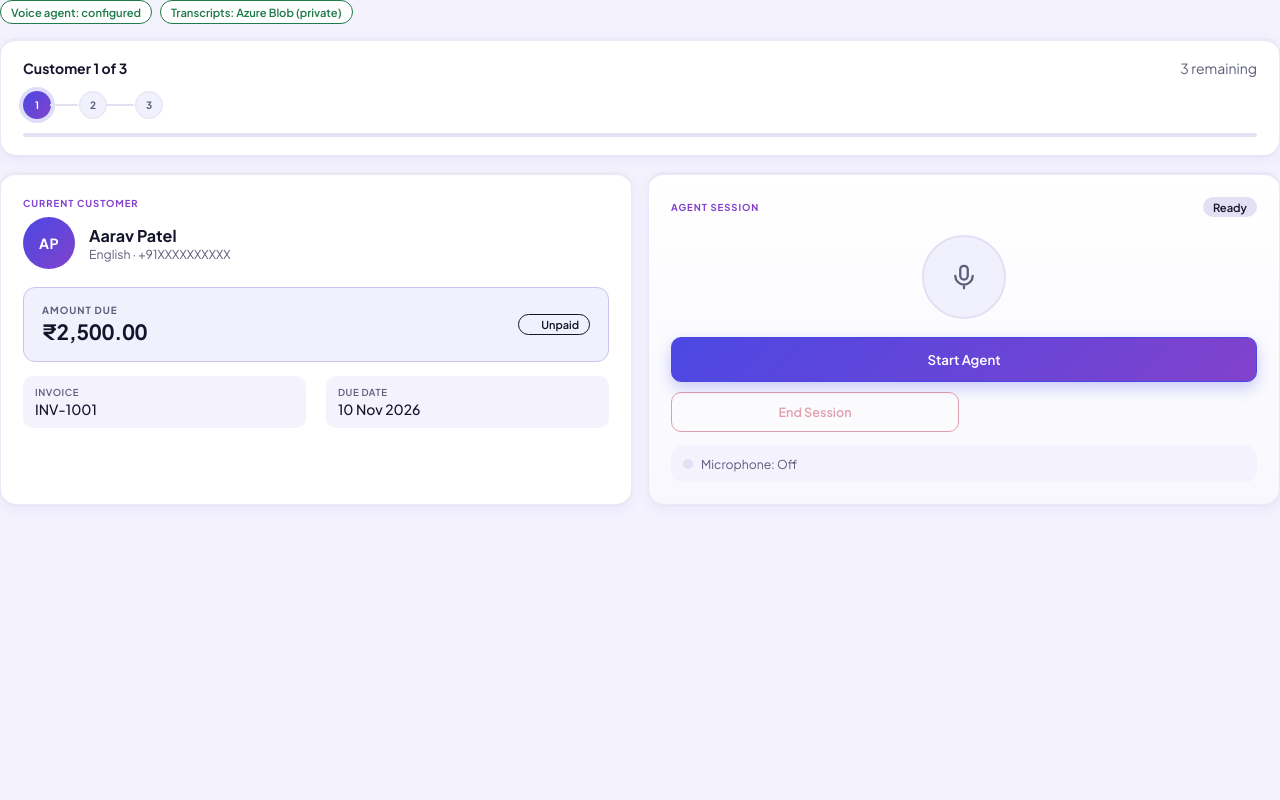
Test: Dashboard › handles a denied microphone and offers a typed conversation instead
Step 1. Click the button "Start Agent" → x=964, y=360, box [671,337,1257,382]
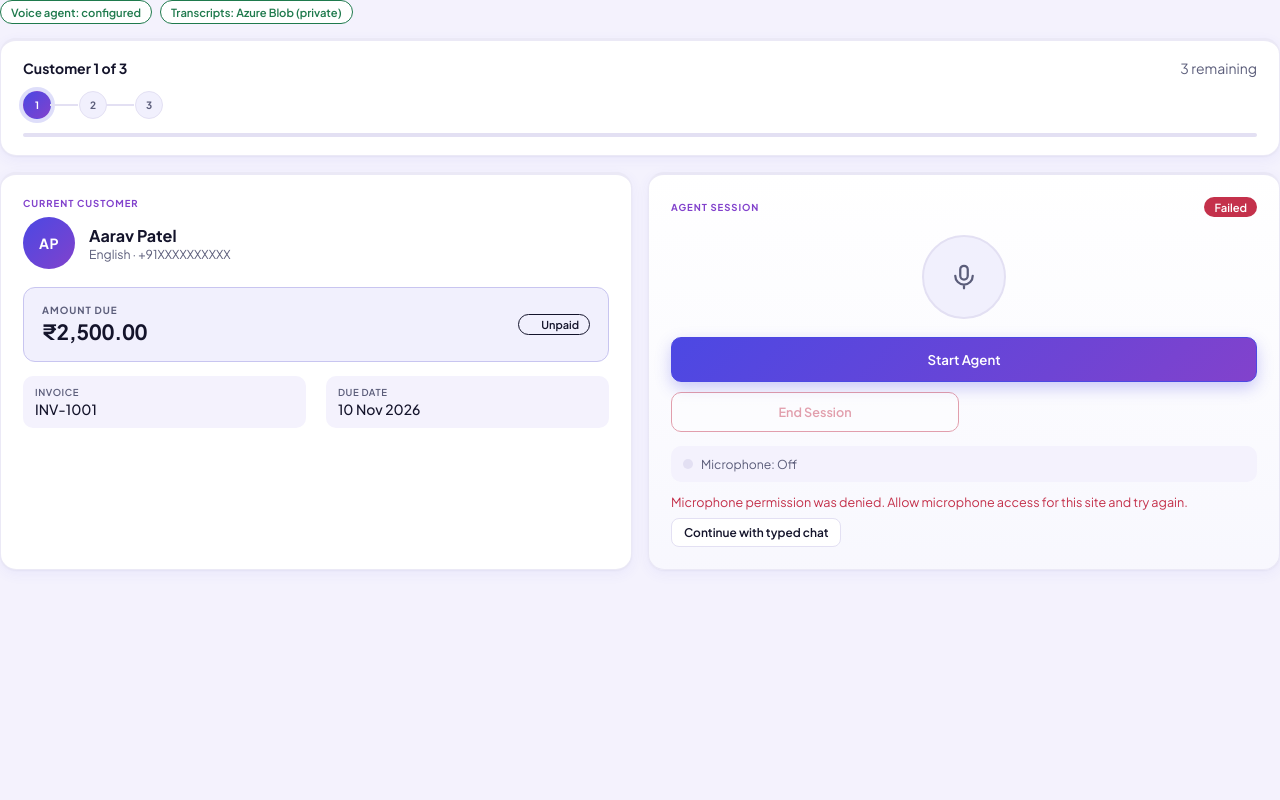
Expected: the message shows "Microphone permission was denied", [671,494,1188,510]
Expected: the text with test id "session-status" reads "Failed", [1214,200,1247,214]
Step 2. Click the button "Continue with typed chat" → x=756, y=532, box [671,518,842,547]
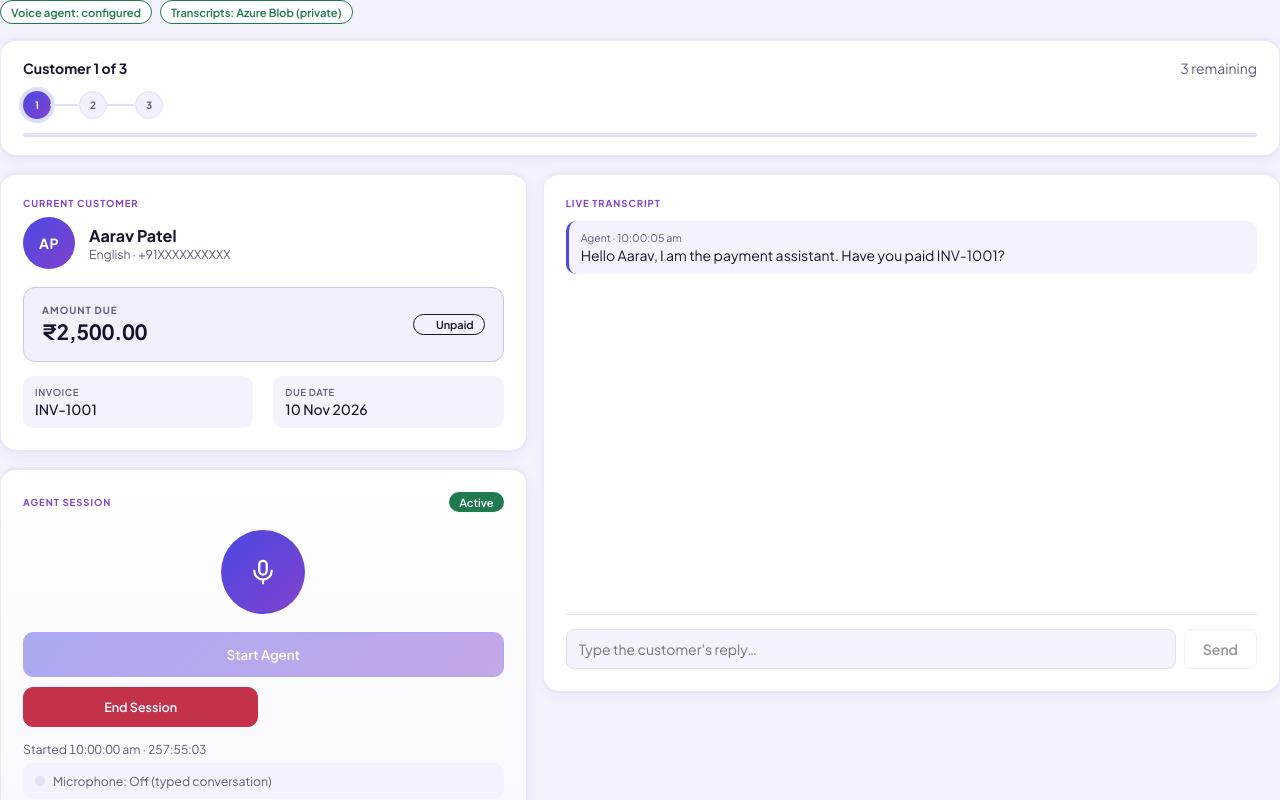
Expected: the text "Hello Aarav, I am the payment assistant. Have you paid INV-1001?" is shown, [581,246,1005,264]
Expected: the element with test id "mic-state" shows "typed conversation", [129,773,272,789]
Step 3. Type "I will pay on Friday" into the field named "Customer reply" → x=871, y=649, box [566,629,1176,669]
Then press Enter
(page scrolled)
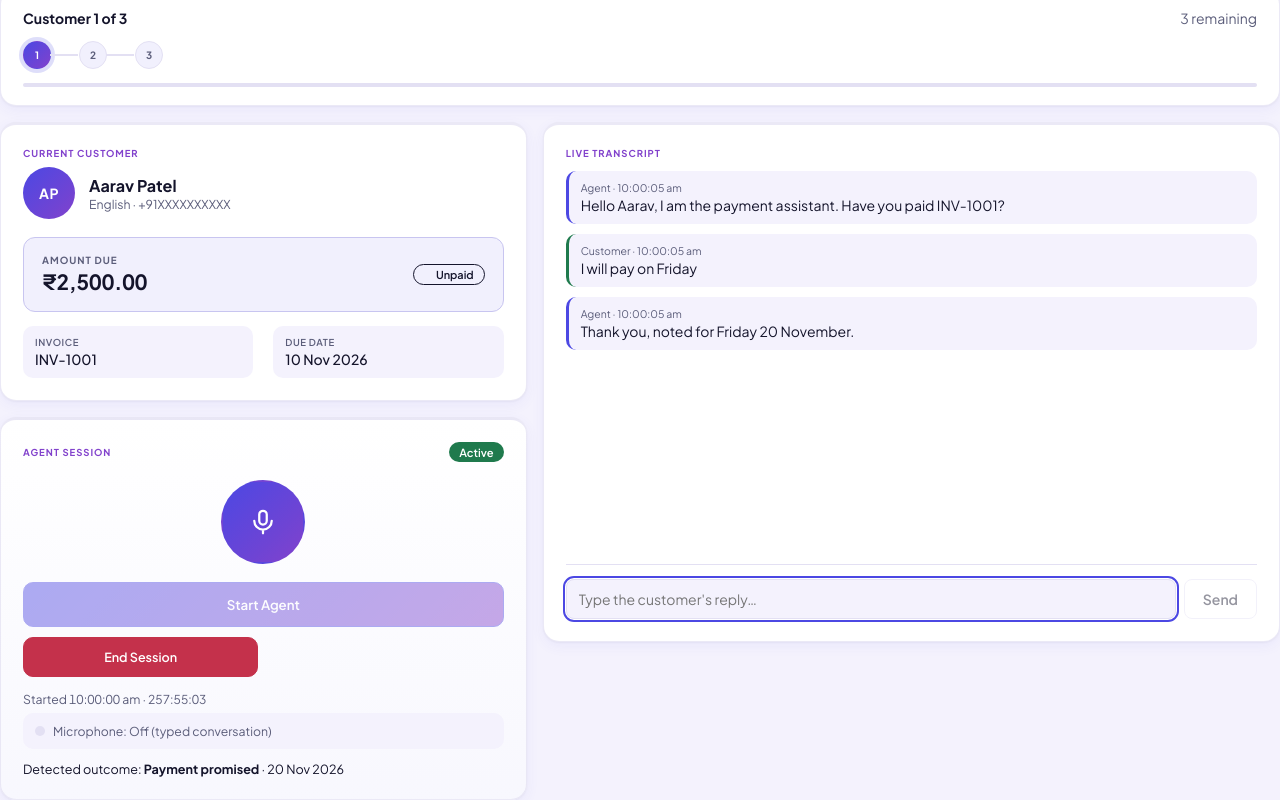
Expected: the text "Thank you, noted for Friday 20 November." is shown, [581,322,854,340]
Expected: the element with test id "proposed-outcome" shows "Payment promised", [144,761,259,777]
